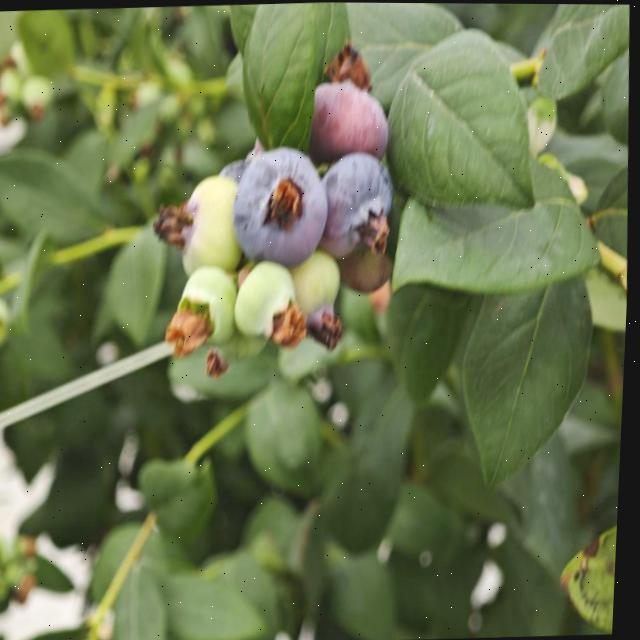RipeBlueBerry: (229, 141, 336, 266), (317, 147, 402, 262)
Semi-RipeBlueBerry: (310, 68, 394, 157)
UnripeBlueBerry: (176, 169, 246, 278), (232, 260, 308, 346)
